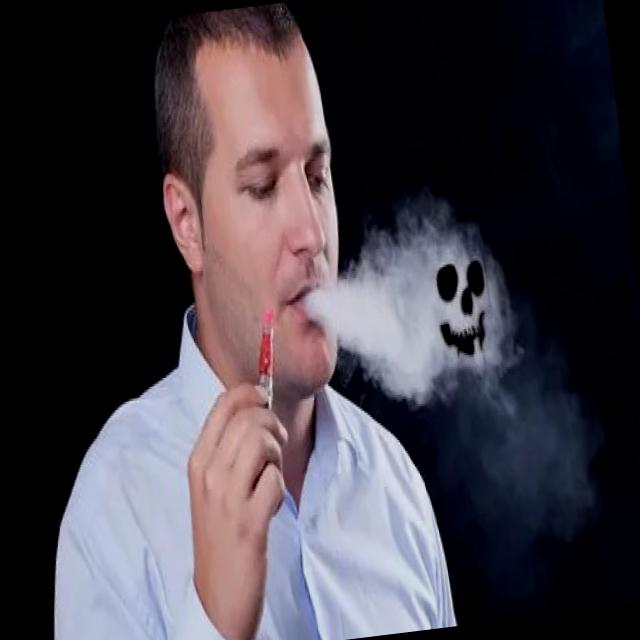smoke: (237, 302, 296, 449)
